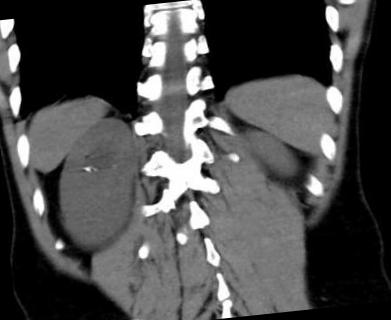Tas_Var: (226, 150, 242, 167), (80, 164, 93, 174)
